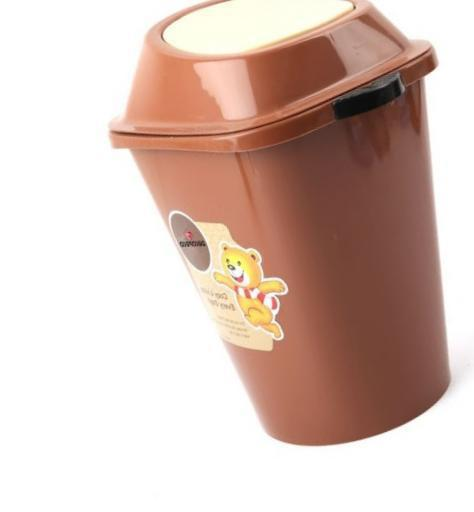Bote de Basura: (127, 9, 450, 446)
